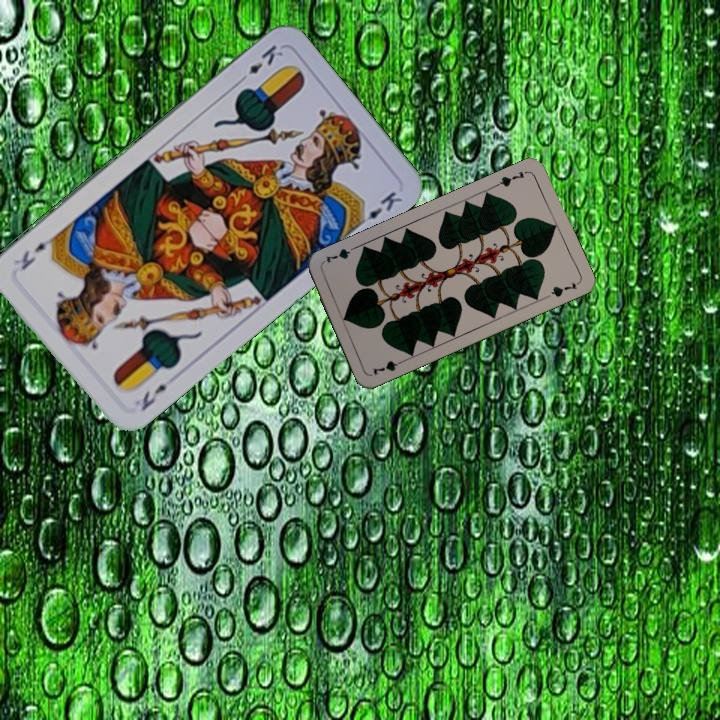EK: (233, 40, 286, 87), (136, 380, 170, 414)
G7: (368, 355, 408, 378), (492, 167, 531, 189)
